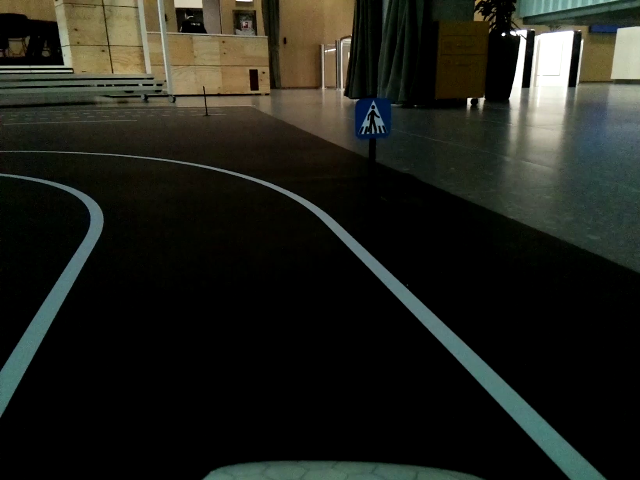pedestrians: (353, 99, 391, 138)
